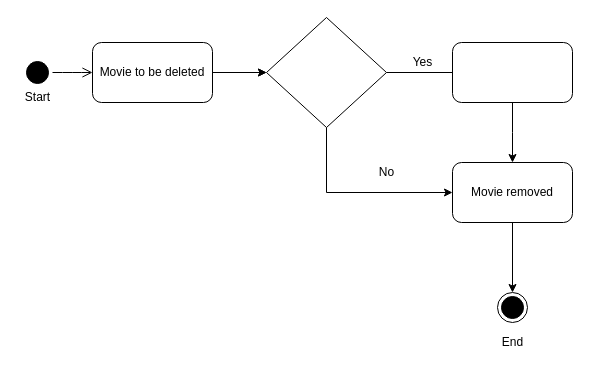
Some shapes in this 590 by 370 pixel diagram are drawn without their labels. Each missing label, with the box of its shape:
Delete movie: (452, 42, 572, 102)
Does movie exists?: (266, 16, 386, 128)
